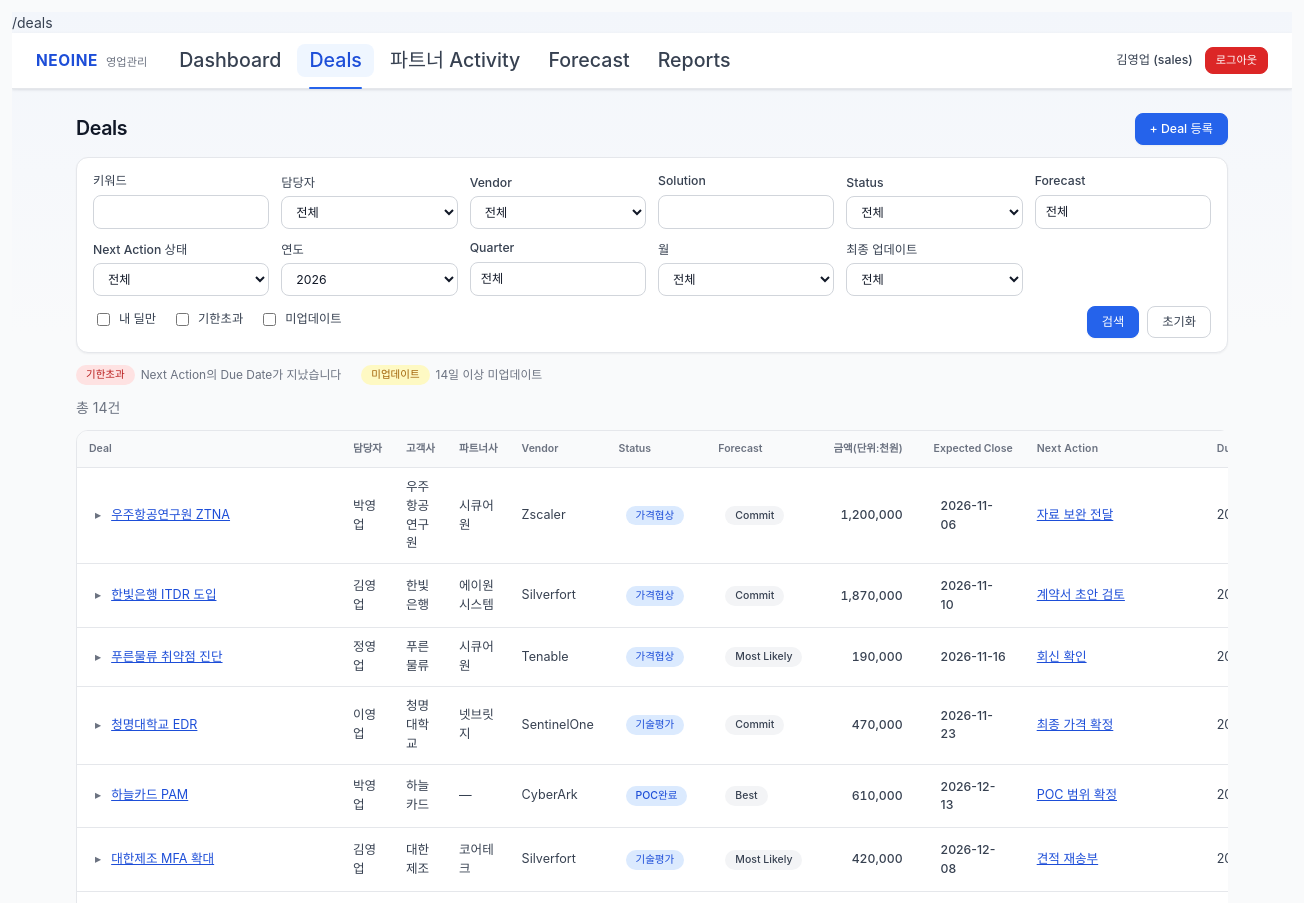
Test: 가드와 리다이렉트 (T-SHELL-07~08) › signs out and returns to the login page
This screenshot has width=1304, height=903.
Click the button "로그아웃" at {"x": 1236, "y": 60}, box [1205,47,1268,74]
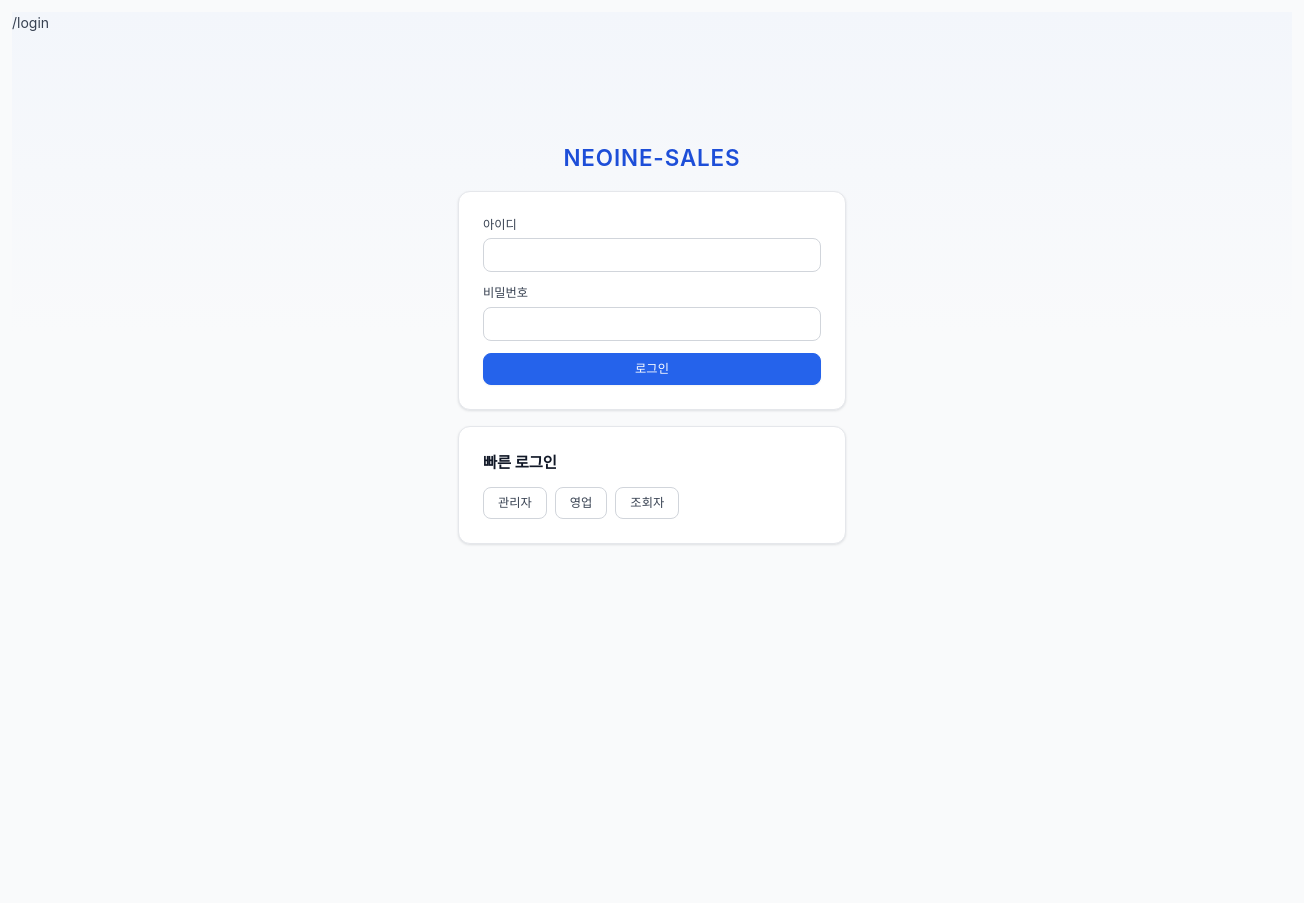
Expected: the text with test id "location" reads "/login", [12,14,49,31]
